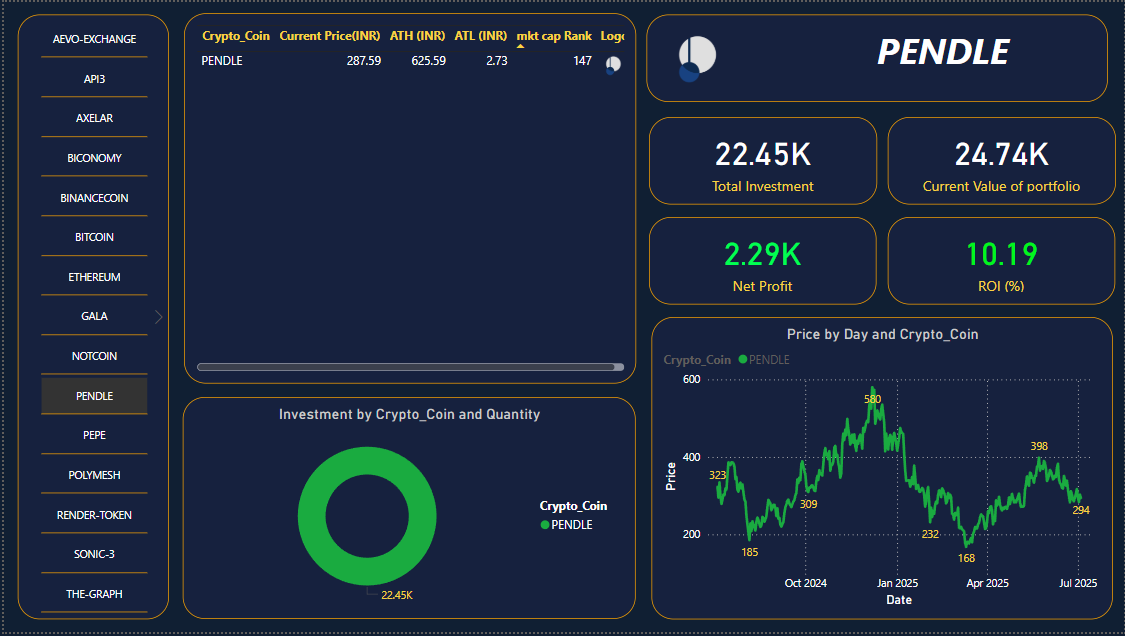

This screenshot's page, from the dashboard's own definition file:
{"tool":"powerbi","page":{"name":"Overview","canvas":[1280,720],"ordinal":0},"visuals":[{"type":"tableEx","fields":{"Values":["Crypto_coin data.Crypto_Coin","Crypto_coin data.Current Price(INR)","Crypto_coin data.ATH (INR)","Crypto_coin data.ATL (INR)","Crypto_coin data.Market Cap Rank","Crypto_coin data.image"]},"box":[205.7,12.9,517.1,422.9],"z":0},{"type":"lineChart","title":" Price by Day and Crypto_Coin","fields":{"Category":["Historical coin data.Date"],"Y":["Avg(Historical coin data.Price)"],"Series":["Historical coin data.Crypto_Coin"]},"box":[737.4,359.5,527,346.1],"z":1000},{"type":"donutChart","title":"Investment by Crypto_Coin and Quantity","fields":{"Category":["Portfolio.Crypto_Coin"],"Y":["Avg(Portfolio.Initial Investment)"],"Series":["Portfolio.Quantity"]},"box":[204.5,451.5,517.3,253.9],"z":2000},{"type":"card","fields":{"Values":["Portfolio.Initial Investment of portfoilio"]},"box":[736.9,131,260.7,100],"z":3000},{"type":"card","fields":{"Values":["Portfolio.Current Value of portfolio"]},"box":[1010,131,260.7,100.2],"z":4000},{"type":"card","fields":{"Values":["Portfolio.ROI (%)"]},"box":[1010,245,260,100],"z":5000},{"type":"card","fields":{"Values":["Portfolio.Net Profit"]},"box":[737.1,245,260,100],"z":6000},{"type":"slicer","fields":{"Values":["Portfolio.Crypto_Coin"]},"box":[15.7,14.3,172.9,691.4],"z":7000},{"type":"multiRowCard","fields":{"Values":["Crypto_coin data.image1","Portfolio.Coin Name"]},"box":[734.3,14.3,527.1,100],"z":8000},{"type":"actionButton","box":[838.6,31.4,148.6,65.7],"z":9000}]}

Visuals, with their boxes in screenshot pixels (x1, y1, x2, y2), scaled from the page's 1280x720 canvas onto the 1125x636 screenshot:
tableEx - Crypto_coin data.Crypto_Coin x Crypto_coin data.Current Price(INR): x1=181 y1=11 x2=635 y2=385
" Price by Day and Crypto_Coin" lineChart: x1=648 y1=318 x2=1111 y2=623
"Investment by Crypto_Coin and Quantity" donutChart: x1=180 y1=399 x2=634 y2=623
card - Portfolio.Initial Investment of portfoilio: x1=648 y1=116 x2=877 y2=204
card - Portfolio.Current Value of portfolio: x1=888 y1=116 x2=1117 y2=204
card - Portfolio.ROI (%): x1=888 y1=216 x2=1116 y2=305
card - Portfolio.Net Profit: x1=648 y1=216 x2=876 y2=305
slicer - Portfolio.Crypto_Coin: x1=14 y1=13 x2=166 y2=623
multiRowCard - Crypto_coin data.image1 x Portfolio.Coin Name: x1=645 y1=13 x2=1109 y2=101
actionButton: x1=737 y1=28 x2=868 y2=86
